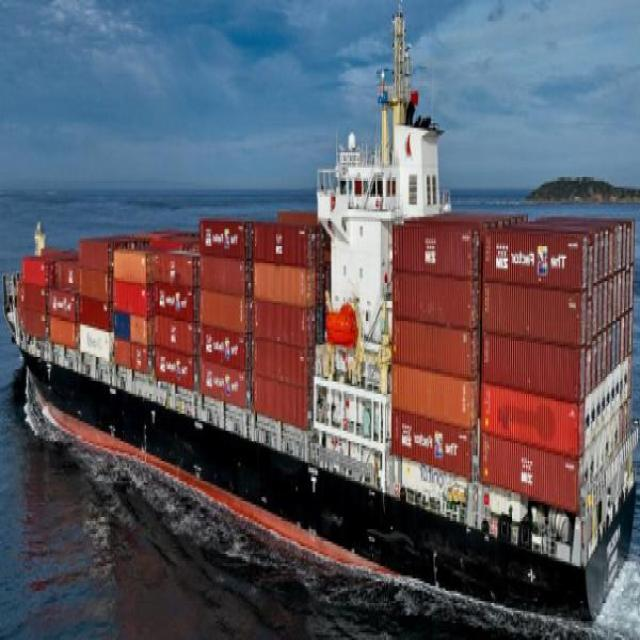Container Ship: (6, 5, 638, 623)
